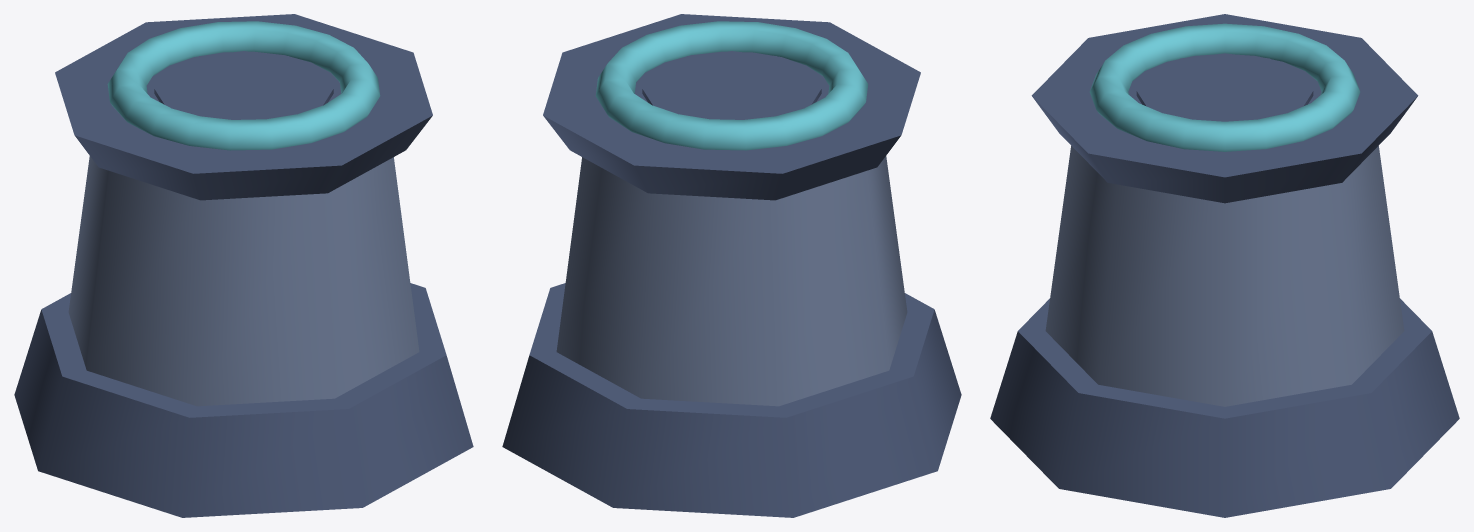
Rendered from lensPedestal.glb.
3 renders of one model, left to right at view 1: azimuth 30°, elevation 25°; view 2: azimuth 150°, elevation 25°; view 3: azimuth 270°, elevation 25°, orthographic.
Visible parts, largest first — view 1: lensPedestal_mesh; view 2: lensPedestal_mesh; view 3: lensPedestal_mesh.
Boxes of the visible parts, <box> form: lensPedestal_mesh: <box>14,14,473,517</box>; lensPedestal_mesh: <box>502,14,961,517</box>; lensPedestal_mesh: <box>990,14,1459,517</box>.
Bounding box in the file's own units: 1.7 × 1.37 × 1.7.
